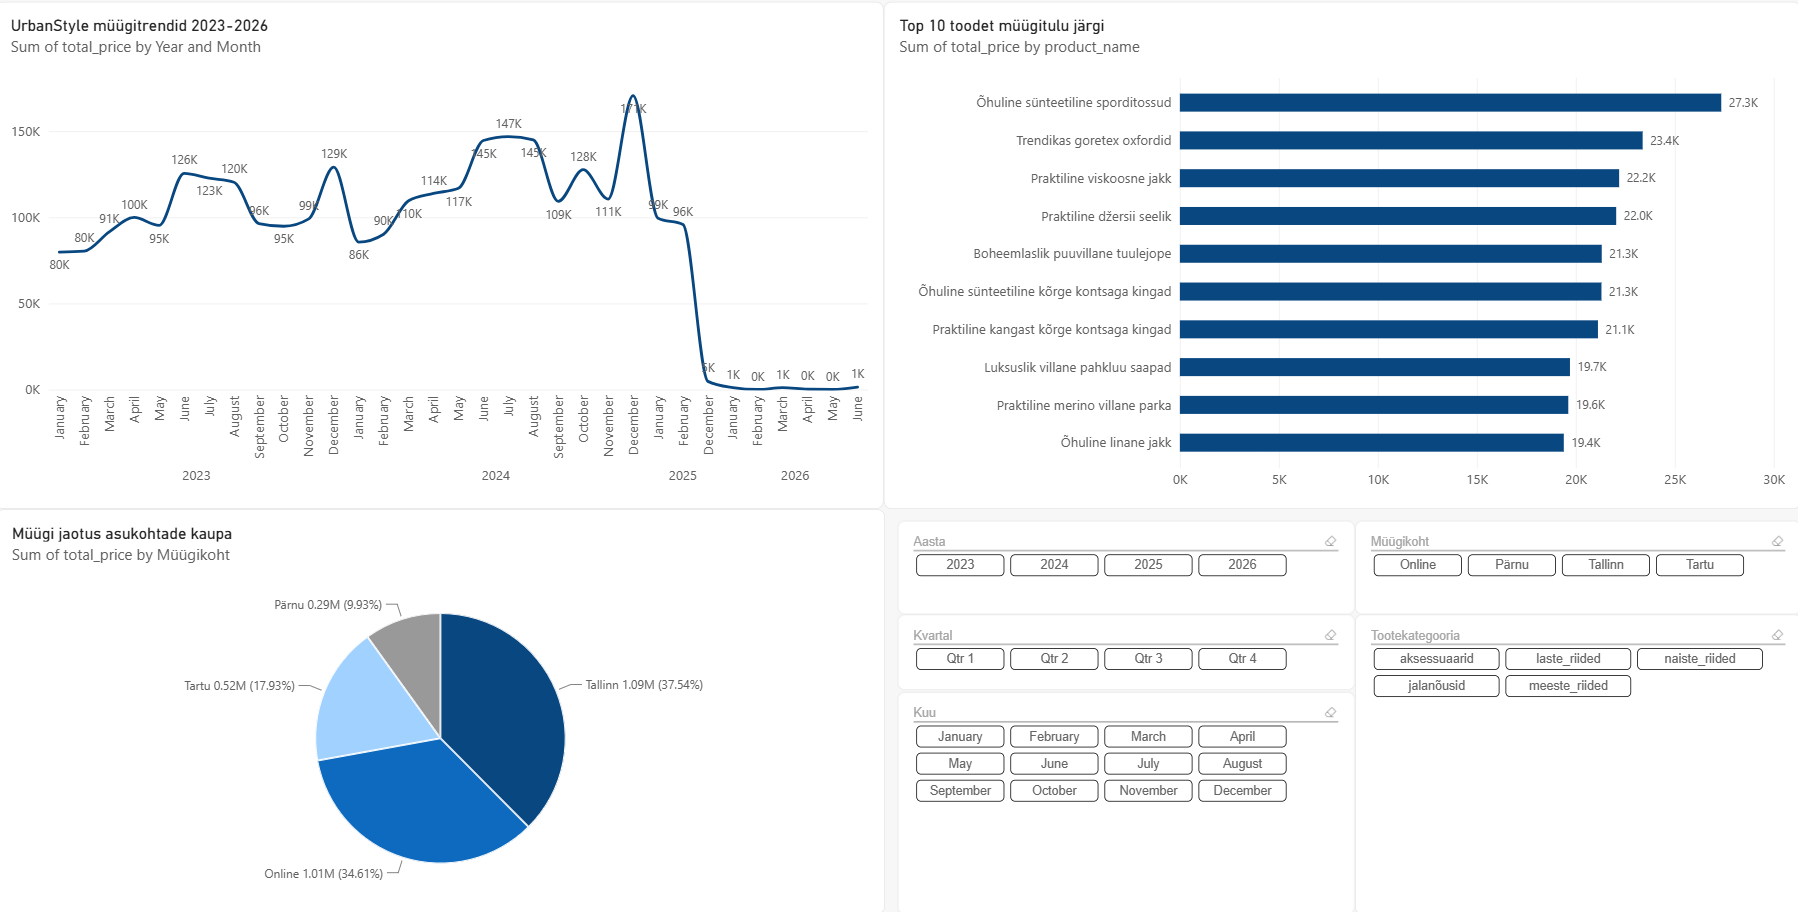

Layout of this report page (visuals, bound fields, positions):
{"tool":"powerbi","page":{"name":"w5_IT","canvas":[1920,1080],"ordinal":1},"visuals":[{"type":"lineChart","title":"UrbanStyle müügitrendid 2023-2026","fields":{"Category":["public sales.sale_date.Variation.Date Hierarchy.Year","public sales.sale_date.Variation.Date Hierarchy.Month"],"Y":["Sum(public sales.total_price)"]},"box":[0,110.3,944.9,539.5],"z":0},{"type":"clusteredBarChart","title":"Top 10 toodet müügitulu järgi","fields":{"Category":["public products.product_name"],"Y":["Sum(public sales.total_price)"]},"box":[944.9,110.3,975.4,539.5],"z":1000},{"type":"pieChart","title":"Müügi jaotus asukohtade kaupa","fields":{"Category":["public sales.Müügikoht"],"Y":["Sum(public sales.total_price)"]},"box":[1.3,649.8,944.9,430.6],"z":2000},{"type":"ChicletSlicer1448559807354","fields":{"Category":["public sales.sale_date.Variation.Date Hierarchy.Year"]},"box":[959.5,661.8,486.4,99.7],"z":3000},{"type":"ChicletSlicer1448559807354","fields":{"Category":["public sales.Müügikoht"]},"box":[1445.9,661.8,474.4,99.7],"z":4000},{"type":"ChicletSlicer1448559807354","fields":{"Category":["public products.category"]},"box":[1445.9,761.5,474.4,318.9],"z":5000},{"type":"ChicletSlicer1448559807354","fields":{"Category":["public sales.sale_date.Variation.Date Hierarchy.Quarter"]},"box":[959.5,761.5,486.4,81.1],"z":6000},{"type":"ChicletSlicer1448559807354","fields":{"Category":["public sales.sale_date.Variation.Date Hierarchy.Month"]},"box":[959.5,843.9,486.4,236.5],"z":7000}]}

Visuals, with their boxes on the page's 1920x1080 design canvas (x1, y1, x2, y2). These are canvas units, not pixel positions in the 1798x912 screenshot, which may show the page scaled, cropped or inside an application window:
"UrbanStyle müügitrendid 2023-2026" lineChart: (0,110,945,650)
"Top 10 toodet müügitulu järgi" clusteredBarChart: (945,110,1920,650)
"Müügi jaotus asukohtade kaupa" pieChart: (1,650,946,1080)
ChicletSlicer1448559807354 - public sales.sale_date.Variation.Date Hierarchy.Year: (960,662,1446,762)
ChicletSlicer1448559807354 - public sales.Müügikoht: (1446,662,1920,762)
ChicletSlicer1448559807354 - public products.category: (1446,762,1920,1080)
ChicletSlicer1448559807354 - public sales.sale_date.Variation.Date Hierarchy.Quarter: (960,762,1446,843)
ChicletSlicer1448559807354 - public sales.sale_date.Variation.Date Hierarchy.Month: (960,844,1446,1080)
